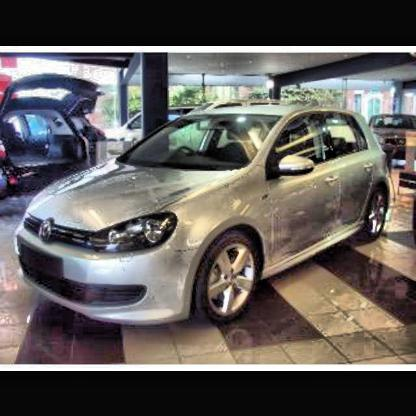Volkswagen Golf Hatchback 2012: (18, 105, 398, 322)
